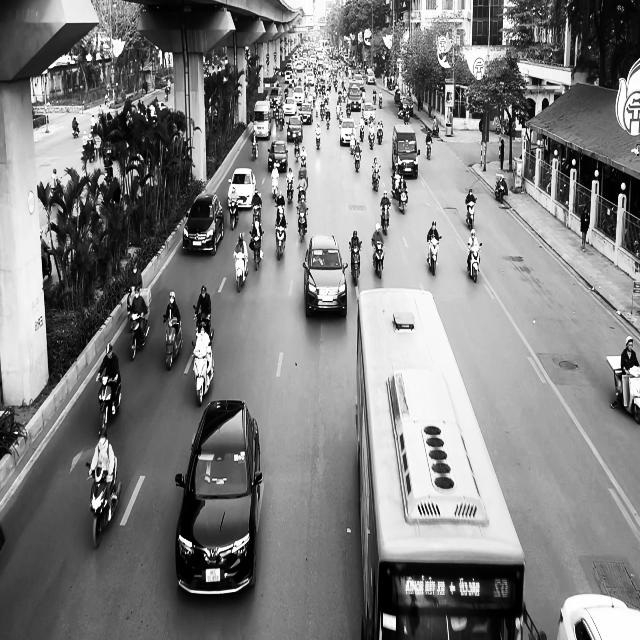bus: (356, 286, 526, 639)
car: (174, 398, 264, 597), (303, 233, 348, 318), (557, 593, 640, 639), (182, 192, 224, 255), (228, 168, 256, 209), (268, 140, 288, 172)
motorbike: (86, 457, 122, 549), (192, 337, 214, 406), (96, 374, 122, 431), (128, 308, 150, 360), (163, 315, 183, 370), (427, 234, 442, 276), (349, 241, 363, 285), (249, 231, 264, 270), (234, 251, 248, 292), (468, 242, 482, 282), (275, 222, 288, 260), (372, 242, 385, 278), (297, 206, 309, 242), (380, 203, 391, 234), (466, 199, 476, 230), (230, 199, 240, 230), (398, 187, 408, 214), (353, 144, 362, 172), (372, 164, 381, 192), (286, 177, 294, 203), (315, 125, 322, 148), (425, 140, 432, 160), (252, 137, 258, 160)
